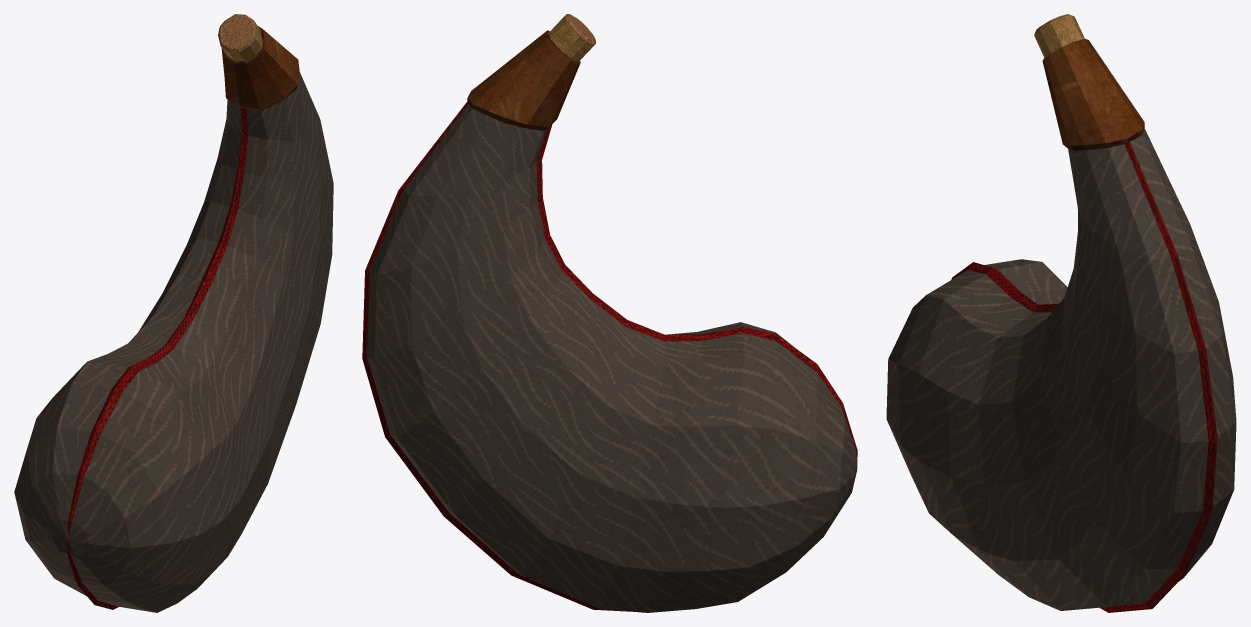
File: QualityWaterskin.fbx
The picture shows the model from 3 angles, left to right: view 1: azimuth 30°, elevation 25°; view 2: azimuth 150°, elevation 25°; view 3: azimuth 270°, elevation 25°; orthographic projection. The views are drawn at different scales.
Visible parts, largest first — view 1: ZomboidQualityWaterskin; view 2: ZomboidQualityWaterskin; view 3: ZomboidQualityWaterskin.
Boxes of the visible parts, x1,y1,x2,y2 form: ZomboidQualityWaterskin: (14,14,333,612); ZomboidQualityWaterskin: (362,14,857,612); ZomboidQualityWaterskin: (886,14,1236,612).
Size of the model in its own units: 0.1594 by 0.2224 by 0.1129.
